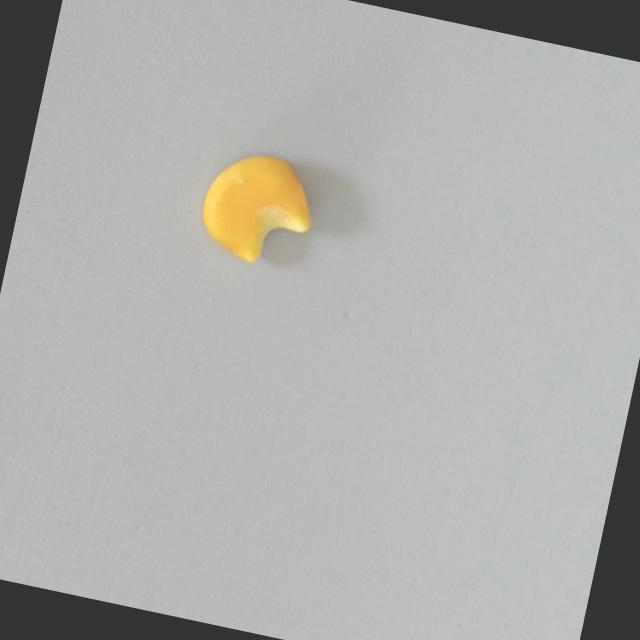dañado: (177, 131, 327, 279)
